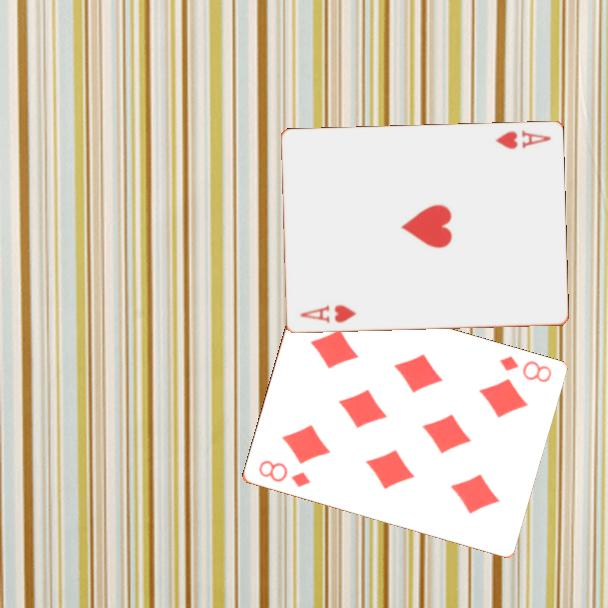d08: (495, 352, 554, 386), (254, 457, 313, 490)
h01: (296, 301, 359, 326), (491, 127, 553, 152)
